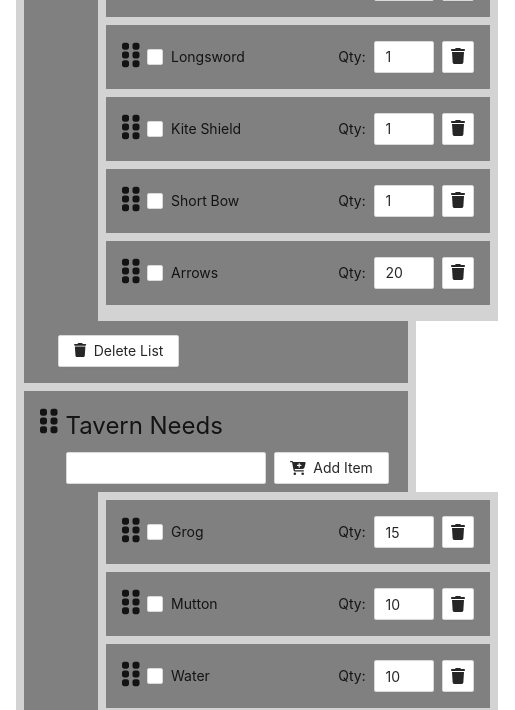
Test: Main App Page › list can be deleted
(page scrolled)
grab first delete list button and click it
Click the button with test id "ListDeleteTestId".
click(118, 351)  # box [58,335,179,367]
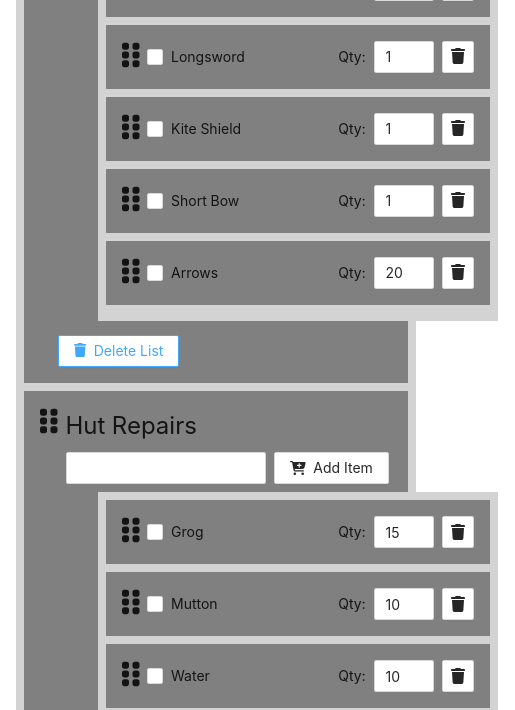
Result: the number of elements with test id "ListHeaderTestId" is 2
